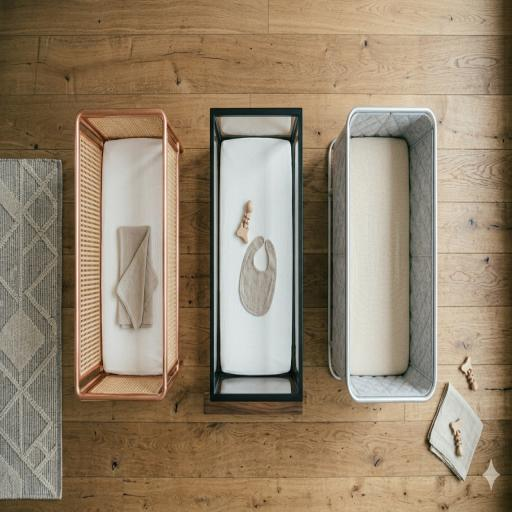crib: (329, 108, 436, 401), (75, 109, 183, 399), (205, 109, 302, 412)
